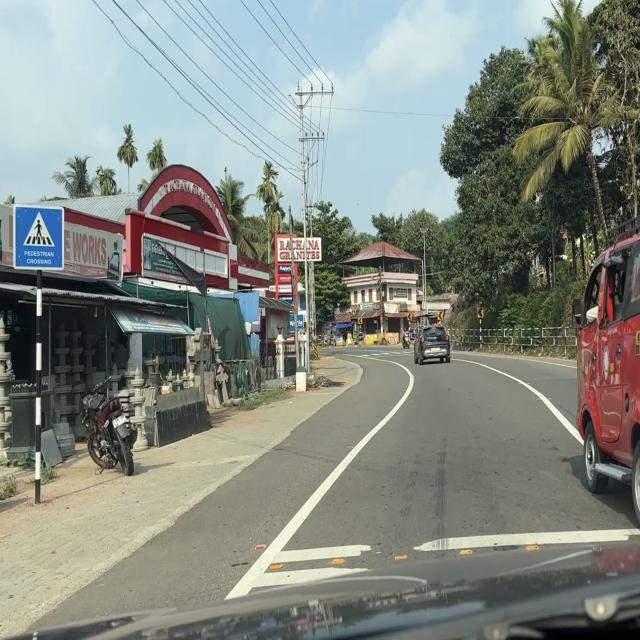PEDESTRIAN_CROSSING: (12, 203, 65, 272)
TURN_LEFT: (477, 307, 484, 319), (438, 310, 443, 321)
